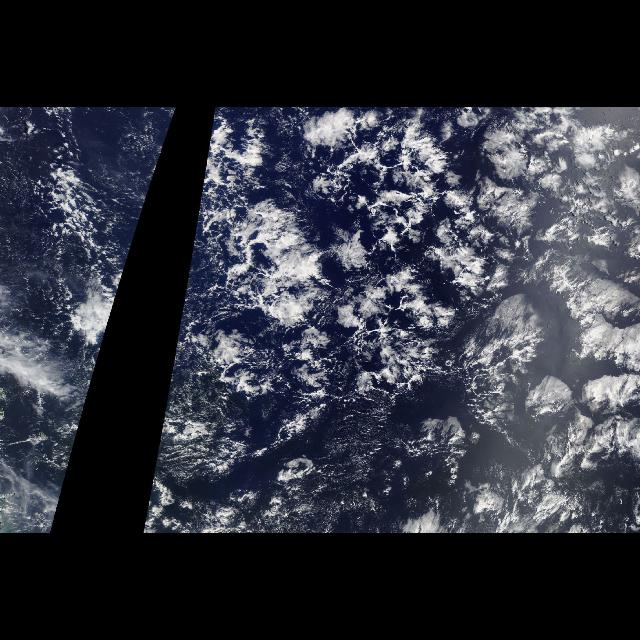Flower: (261, 111, 639, 491)
Gravel: (142, 109, 636, 532), (3, 109, 177, 532)
Sugar: (332, 385, 398, 501)
